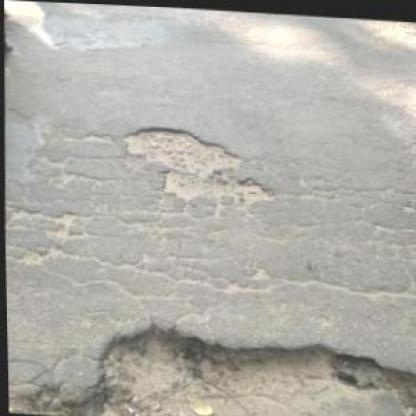pothole: (15, 306, 415, 414), (119, 121, 276, 202)
